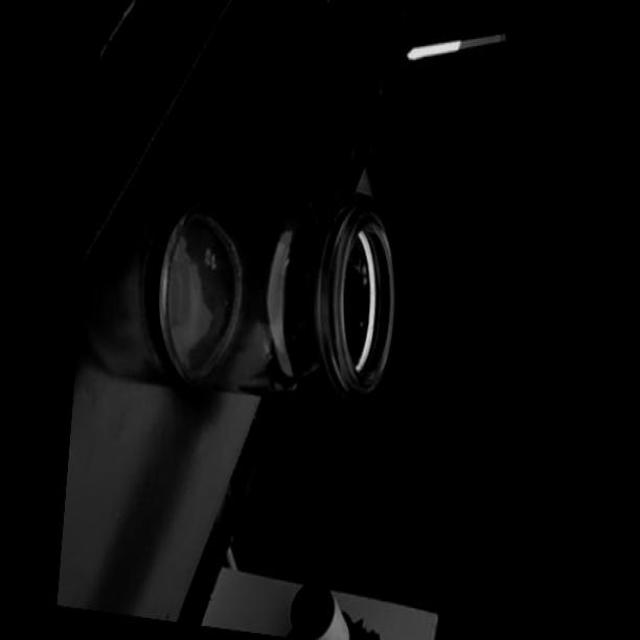defect: (279, 256, 290, 284)
glass: (147, 168, 406, 427)
